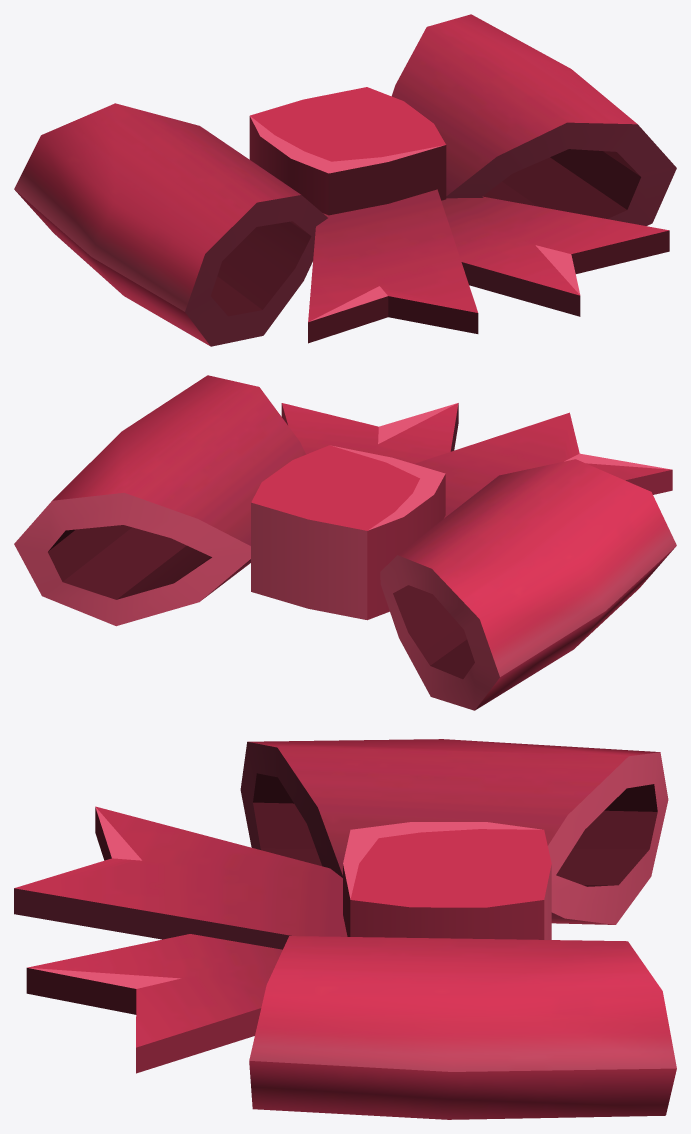
File: Bow.fbx
3 renders of one model, top to bottom at view 1: azimuth 30°, elevation 25°; view 2: azimuth 150°, elevation 25°; view 3: azimuth 270°, elevation 25°, orthographic. The views are drawn at different scales.
Parts seen in each view (by area): view 1: Wreath; view 2: Wreath; view 3: Wreath.
Boxes of the visible parts, left/top/right/bottom form: Wreath: left=14, top=14, right=676, bottom=346; Wreath: left=14, top=375, right=676, bottom=710; Wreath: left=14, top=739, right=676, bottom=1119.
Bounding box in the file's own units: 74.47 × 19.41 × 67.58.
